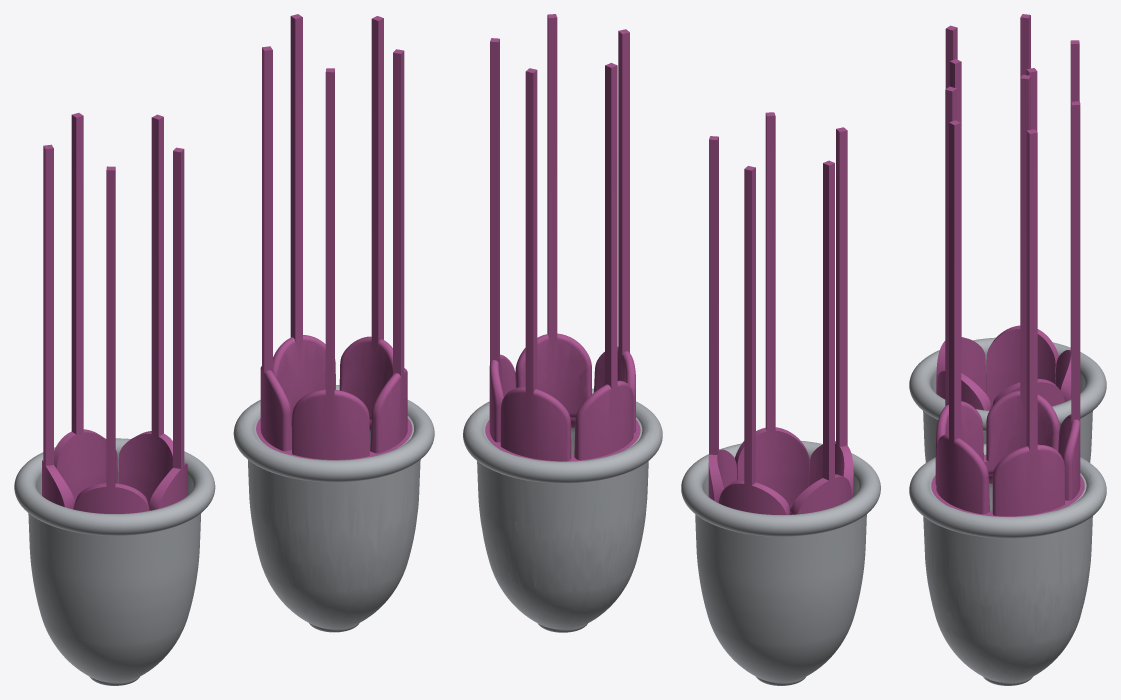
The model's file is flower-low-vs-high.glb.
The picture shows the model from 3 angles, left to right: view 1: azimuth 30°, elevation 25°; view 2: azimuth 150°, elevation 25°; view 3: azimuth 270°, elevation 25°; orthographic projection.
Parts seen in each view (by area): view 1: flower-cup-withrim-higher-0-mechanism, flower-cup-withrim-part-5, flower-cup-withrim-higher-0-body, flower-cup-withrim-part-1, flower-cup-withrim-part-3; view 2: flower-cup-withrim-higher-0-mechanism, flower-cup-withrim-higher-0-body, flower-cup-withrim-part-5, flower-cup-withrim-part-3, flower-cup-withrim-part-1; view 3: flower-cup-withrim-higher-0-mechanism, flower-cup-withrim-higher-0-body, flower-cup-withrim-part-5, flower-cup-withrim-part-1, flower-cup-withrim-part-3.
Part boxes in pixels (x1=…): flower-cup-withrim-higher-0-mechanism: x1=256, y1=14, x2=412, y2=460; flower-cup-withrim-part-5: x1=42, y1=113, x2=187, y2=513; flower-cup-withrim-higher-0-body: x1=233, y1=385, x2=434, y2=632; flower-cup-withrim-part-1: x1=27, y1=458, x2=215, y2=682; flower-cup-withrim-part-3: x1=14, y1=438, x2=197, y2=664; flower-cup-withrim-higher-0-mechanism: x1=485, y1=14, x2=640, y2=461; flower-cup-withrim-higher-0-body: x1=463, y1=388, x2=662, y2=632; flower-cup-withrim-part-5: x1=708, y1=112, x2=853, y2=514; flower-cup-withrim-part-3: x1=681, y1=459, x2=867, y2=682; flower-cup-withrim-part-1: x1=699, y1=440, x2=880, y2=665; flower-cup-withrim-higher-0-mechanism: x1=931, y1=75, x2=1084, y2=516; flower-cup-withrim-higher-0-body: x1=909, y1=444, x2=1106, y2=685; flower-cup-withrim-part-5: x1=936, y1=14, x2=1079, y2=410; flower-cup-withrim-part-1: x1=909, y1=337, x2=995, y2=462; flower-cup-withrim-part-3: x1=1052, y1=342, x2=1106, y2=462.
Bounding box in the file's own units: 0.104 × 0.147 × 0.046.
